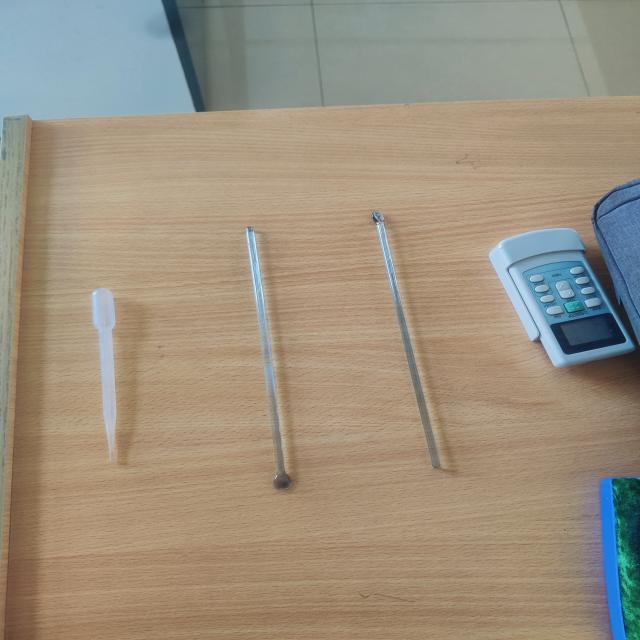Glass_Rod: (350, 204, 480, 496), (216, 204, 331, 512)
Pipette: (51, 277, 166, 484)
